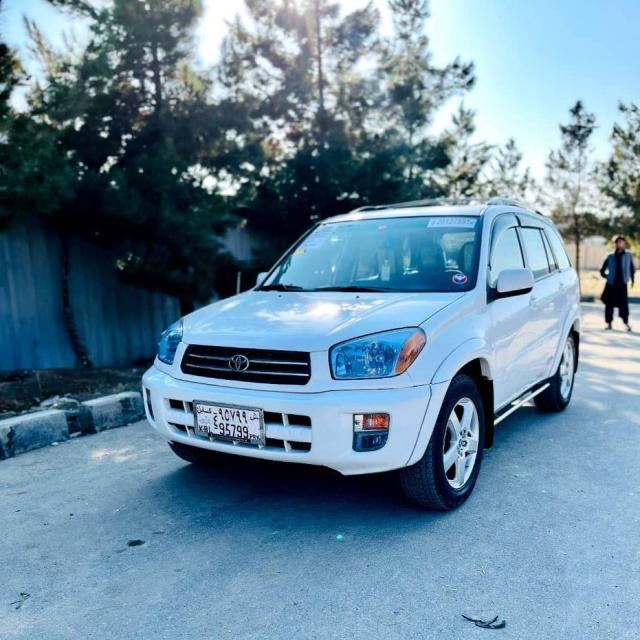Plate: (188, 398, 268, 450)
